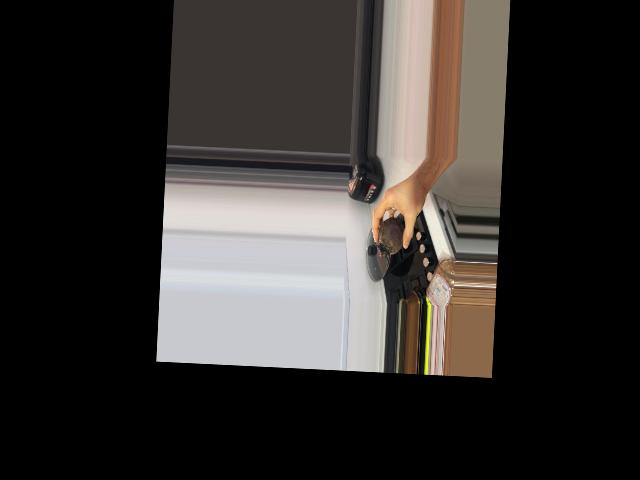beet: (377, 214, 404, 258)
